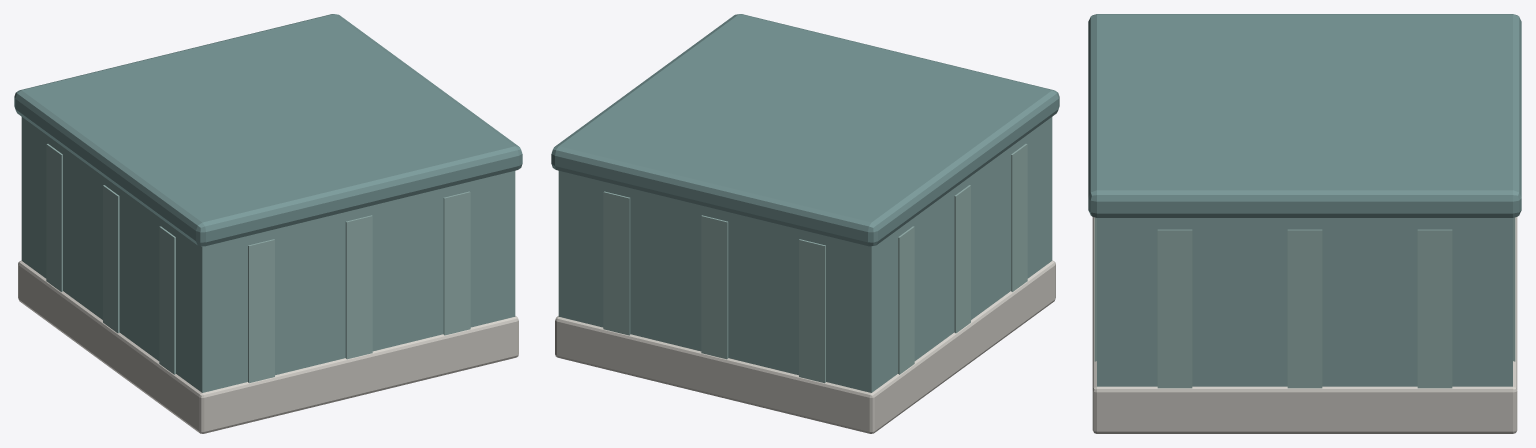
The model's file is wall_room.glb.
3 views of the same model, side by side, from view 1: azimuth 30°, elevation 25°; view 2: azimuth 150°, elevation 25°; view 3: azimuth 270°, elevation 25° (orthographic). The views are drawn at different scales.
Visible parts, largest first — view 1: wall_room; view 2: wall_room; view 3: wall_room.
Boxes of the visible parts, left/top/right/bottom form: wall_room: left=14, top=14, right=522, bottom=433; wall_room: left=551, top=14, right=1059, bottom=433; wall_room: left=1088, top=14, right=1521, bottom=433.
Size of the model in its own units: 1 by 0.62 by 1.
